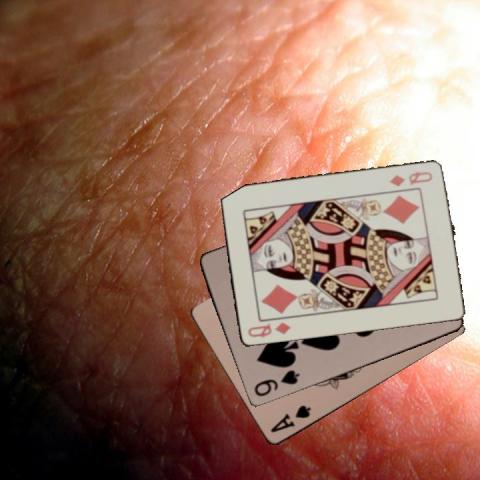9s: (251, 367, 301, 399)
As: (267, 402, 313, 435)
Qd: (244, 319, 291, 340), (387, 168, 434, 188)
